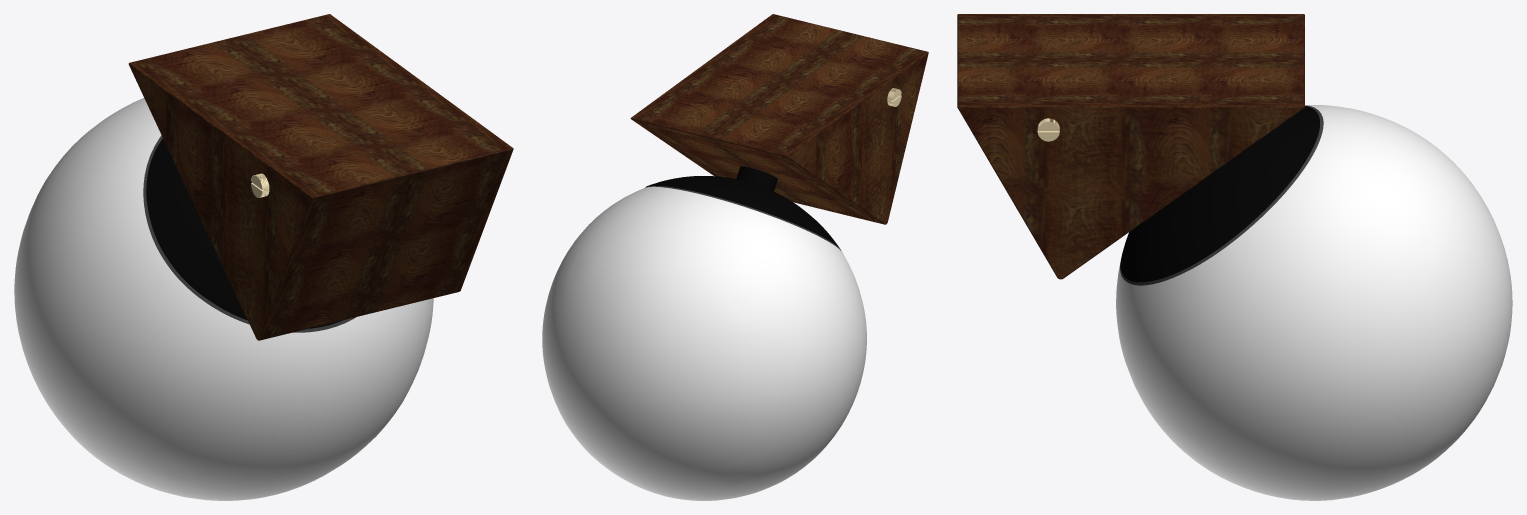
Rendered from lunette_wood.glb.
3 renders of one model, left to right at view 1: azimuth 30°, elevation 25°; view 2: azimuth 150°, elevation 25°; view 3: azimuth 270°, elevation 25°, orthographic. The views are drawn at different scales.
Visible parts, largest first — view 1: シェード, ベース__1_, ベース, 蓋__1_, 蓋, 蓋ガラス境; view 2: シェード, ベース__1_, ベース, 蓋__1_, 金具; view 3: シェード, ベース, ベース__1_, 蓋__1_, 蓋ガラス境.
Part boxes in pixels (x1,y1,x2,y2): シェード: (14,98,433,500); ベース__1_: (128,38,412,340); ベース: (230,14,513,315); 蓋__1_: (146,138,339,327); 蓋: (149,214,342,328); 蓋ガラス境: (143,135,356,332); シェード: (542,186,866,500); ベース__1_: (708,33,928,224); ベース: (630,14,849,205); 蓋__1_: (645,176,824,237); 金具: (736,166,777,191); シェード: (1116,105,1512,500); ベース: (957,60,1304,279); ベース__1_: (957,14,1304,60); 蓋__1_: (1120,106,1319,282); 蓋ガラス境: (1120,105,1323,285).
Size of the model in its own units: 0.18 by 0.2116 by 0.252.
Materials: 8 (1 with a texture image).
